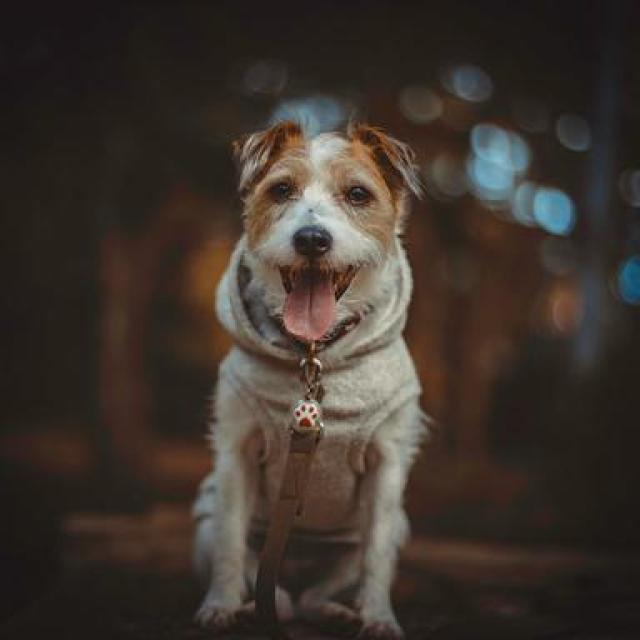adult_dog: (188, 117, 432, 640)
